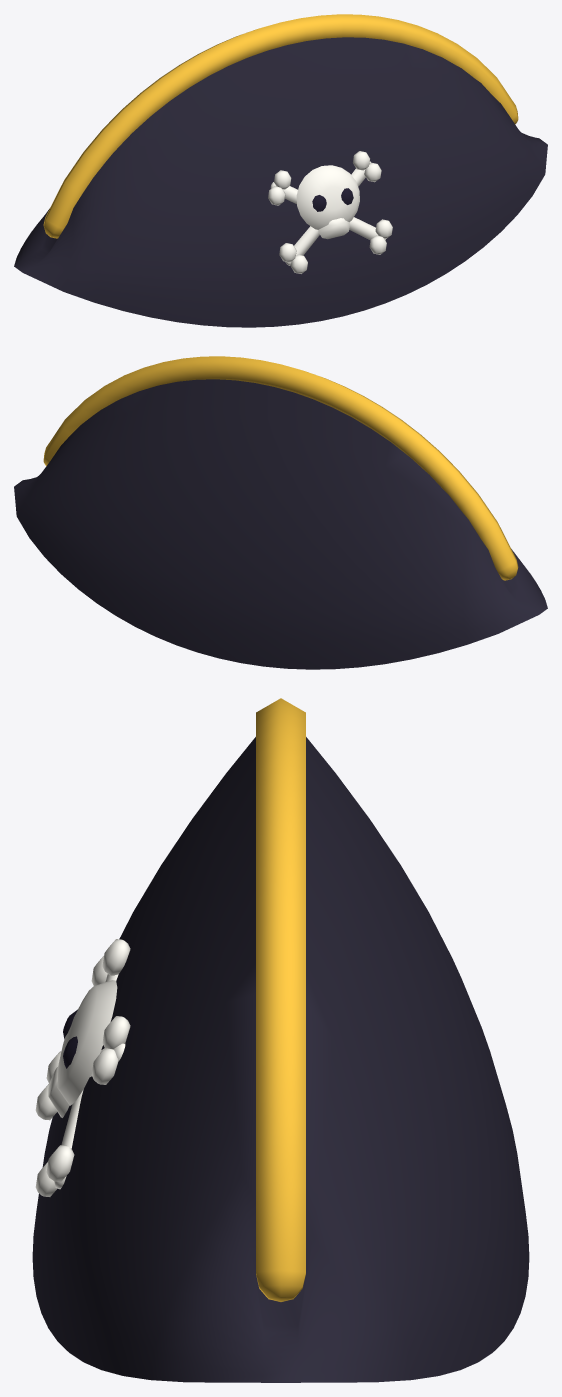
The model's file is pirate.glb.
The picture shows the model from 3 angles, top to bottom: view 1: azimuth 30°, elevation 25°; view 2: azimuth 150°, elevation 25°; view 3: azimuth 270°, elevation 25°; orthographic projection. The views are drawn at different scales.
Parts seen in each view (by area): view 1: pirate; view 2: pirate; view 3: pirate.
Part boxes in pixels (x1,y1,x2,y2): pirate: (14, 14, 547, 327); pirate: (14, 356, 547, 669); pirate: (32, 698, 529, 1382).
Bounding box in the file's own units: 0.84 × 0.38 × 0.344.
